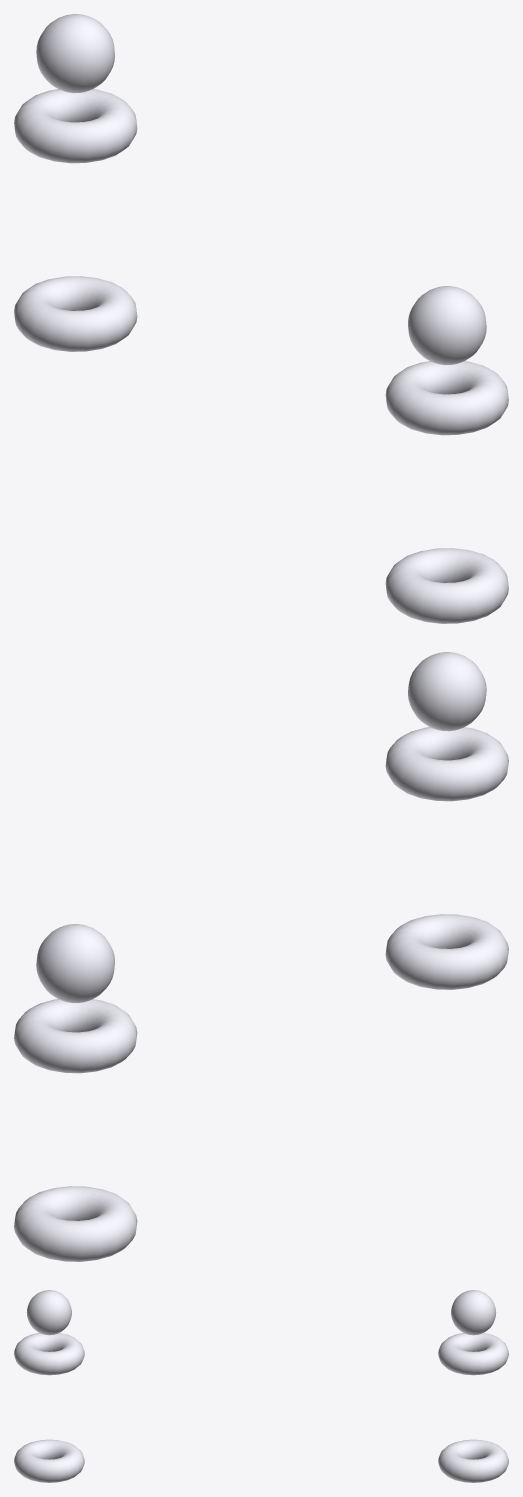
The model's file is encubadora_b.obj.
3 views of the same model, one above another, from view 1: azimuth 30°, elevation 25°; view 2: azimuth 150°, elevation 25°; view 3: azimuth 270°, elevation 25° (orthographic). The views are drawn at different scales.
Visible parts, largest first — view 1: pCylinder12 polySurface17, group55 pasted__pCylinder12 pasted__polySurface17, group55 pasted__polySurface15 pasted__pCylinder12, polySurface15 pCylinder12, pasted__pSphere4 group55, pSphere4; view 2: group55 pasted__pCylinder12 pasted__polySurface17, pCylinder12 polySurface17, polySurface15 pCylinder12, group55 pasted__polySurface15 pasted__pCylinder12, pSphere4, pasted__pSphere4 group55; view 3: pCylinder12 polySurface17, group55 pasted__pCylinder12 pasted__polySurface17, polySurface15 pCylinder12, group55 pasted__polySurface15 pasted__pCylinder12, pSphere4, pasted__pSphere4 group55.
Part boxes in pixels (bbox=[...]): pCylinder12 polySurface17: bbox=[14, 276, 137, 351]; group55 pasted__pCylinder12 pasted__polySurface17: bbox=[385, 548, 508, 623]; group55 pasted__polySurface15 pasted__pCylinder12: bbox=[385, 361, 508, 435]; polySurface15 pCylinder12: bbox=[14, 89, 137, 163]; pasted__pSphere4 group55: bbox=[408, 286, 486, 365]; pSphere4: bbox=[36, 14, 114, 93]; group55 pasted__pCylinder12 pasted__polySurface17: bbox=[385, 914, 508, 989]; pCylinder12 polySurface17: bbox=[14, 1186, 137, 1261]; polySurface15 pCylinder12: bbox=[14, 999, 137, 1073]; group55 pasted__polySurface15 pasted__pCylinder12: bbox=[385, 727, 508, 801]; pSphere4: bbox=[36, 924, 114, 1003]; pasted__pSphere4 group55: bbox=[408, 652, 486, 731]; pCylinder12 polySurface17: bbox=[438, 1439, 508, 1482]; group55 pasted__pCylinder12 pasted__polySurface17: bbox=[14, 1439, 84, 1482]; polySurface15 pCylinder12: bbox=[438, 1333, 508, 1375]; group55 pasted__polySurface15 pasted__pCylinder12: bbox=[14, 1333, 84, 1375]; pSphere4: bbox=[451, 1290, 496, 1335]; pasted__pSphere4 group55: bbox=[26, 1290, 71, 1335].
Bounding box in the file's own units: 2.51 × 7.02 × 17.51.
Materials: 6 (6 with a texture image).
